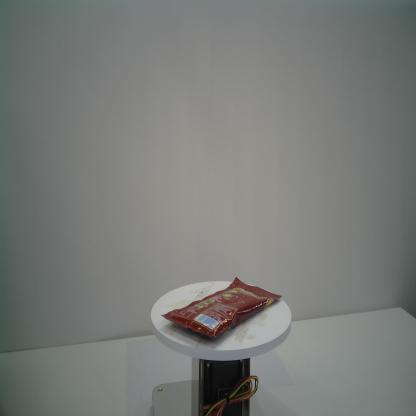Candy: (161, 276, 282, 340)
